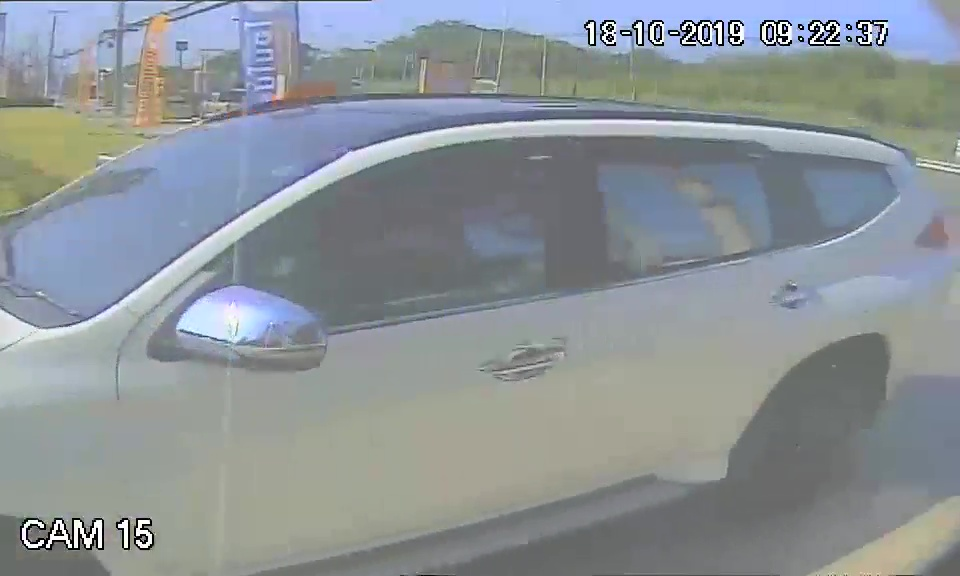pickup: (77, 85, 937, 567)
